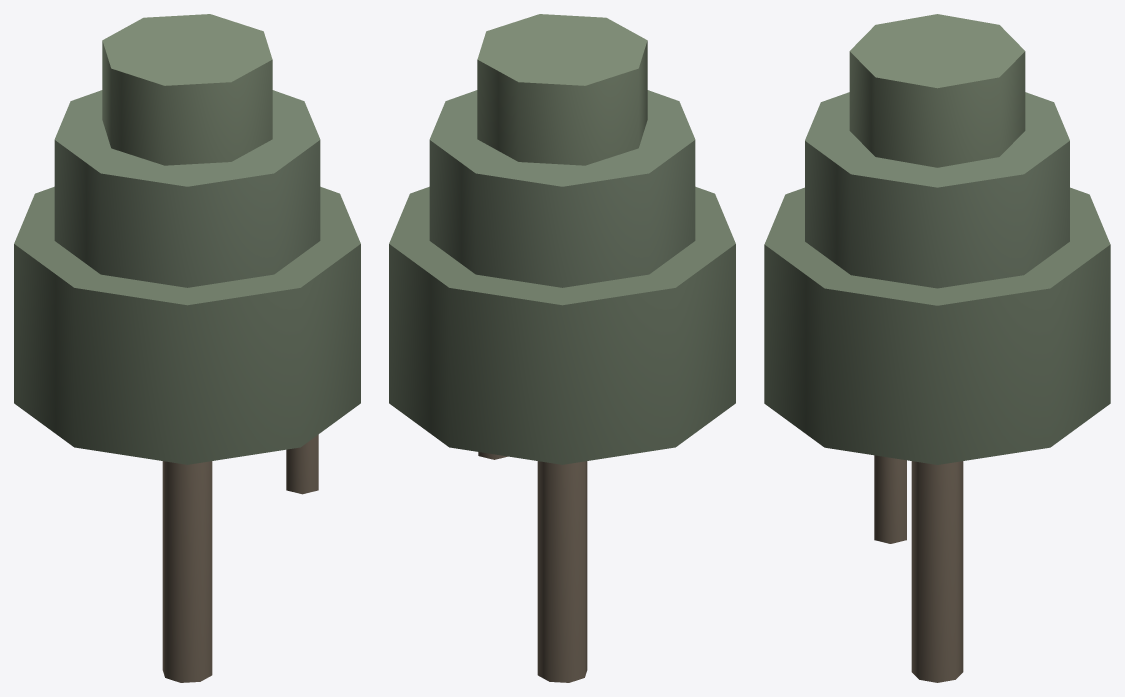
The model's file is tree.glb.
3 renders of one model, left to right at view 1: azimuth 30°, elevation 25°; view 2: azimuth 150°, elevation 25°; view 3: azimuth 270°, elevation 25°, orthographic.
Parts seen in each view (by area): view 1: tree; view 2: tree; view 3: tree.
Part boxes in pixels (left/top/right/bottom): tree: left=14, top=14, right=360, bottom=682; tree: left=389, top=14, right=735, bottom=682; tree: left=764, top=14, right=1110, bottom=682.
Size of the model in its own units: 2.91 by 5.85 by 2.95.
